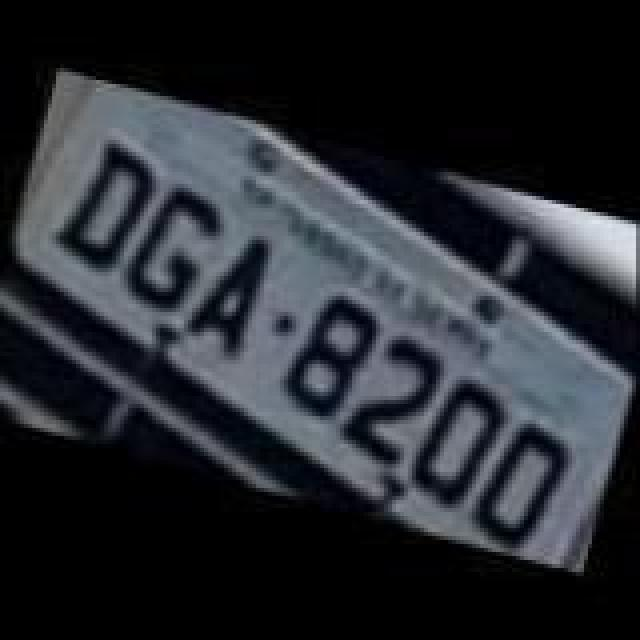2: (328, 324, 448, 480)
8: (272, 278, 380, 426)
A: (174, 222, 278, 366)
D: (44, 124, 172, 284)
G: (114, 176, 222, 324)
O: (402, 370, 518, 514), (466, 414, 582, 554)
